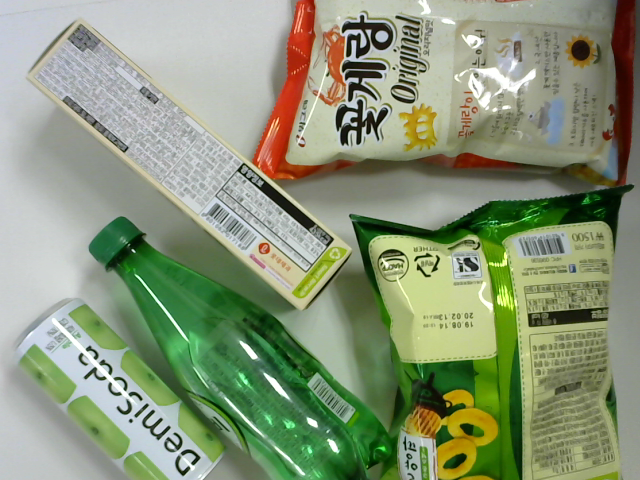Chicchok_Tiramisu: (21, 20, 347, 298)
Crabrang: (251, 4, 640, 191)
Demisoda_Apple_Can_250ml: (11, 294, 226, 480)
Grilled_Onions: (349, 190, 624, 480)
Treviraim_500ml: (87, 216, 396, 480)
